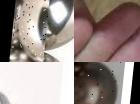ironball: (9, 0, 50, 62), (74, 62, 125, 103), (45, 0, 74, 51)
